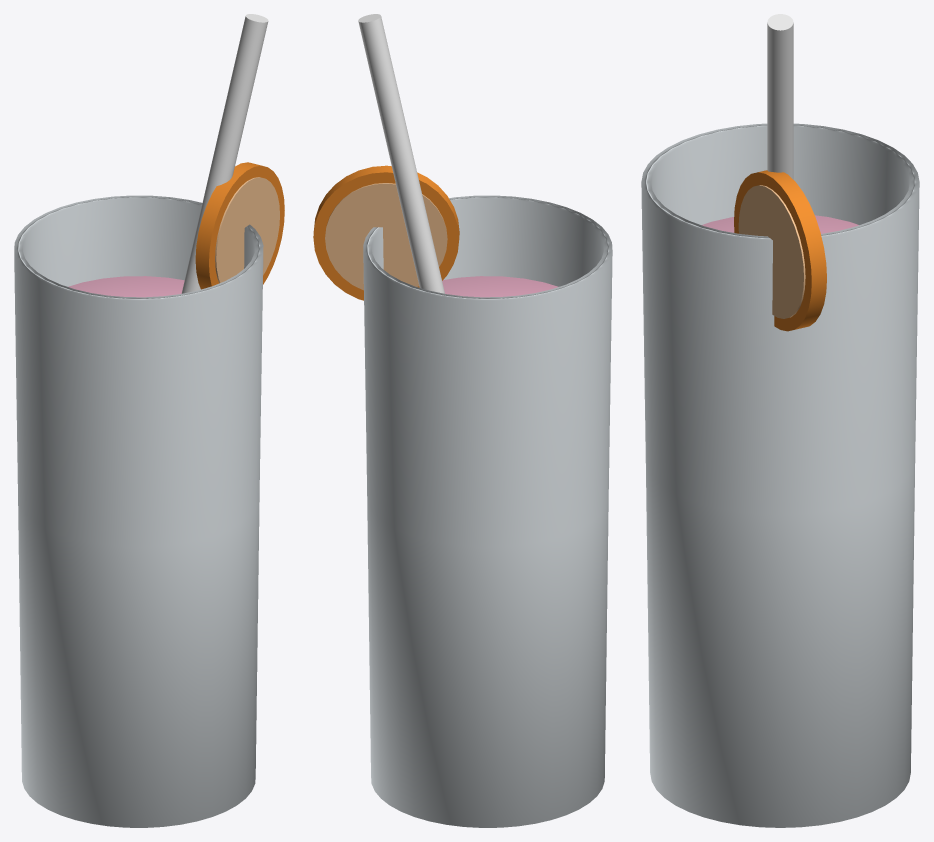
Rendered from cocktail-sun-kissed.glb.
3 views of the same model, side by side, from view 1: azimuth 30°, elevation 25°; view 2: azimuth 150°, elevation 25°; view 3: azimuth 270°, elevation 25° (orthographic). The views are drawn at different scales.
Size of the model in its own units: 0.0794 by 0.2076 by 0.064.
